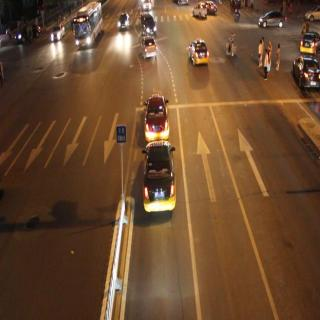BigCar: (72, 3, 106, 51)
Car: (141, 144, 181, 212), (140, 92, 176, 144), (294, 52, 320, 100), (182, 37, 210, 66), (298, 24, 320, 60), (134, 37, 163, 64), (259, 8, 290, 31), (134, 8, 158, 37), (300, 3, 320, 30), (49, 20, 67, 48), (115, 11, 133, 35), (196, 0, 209, 22)
